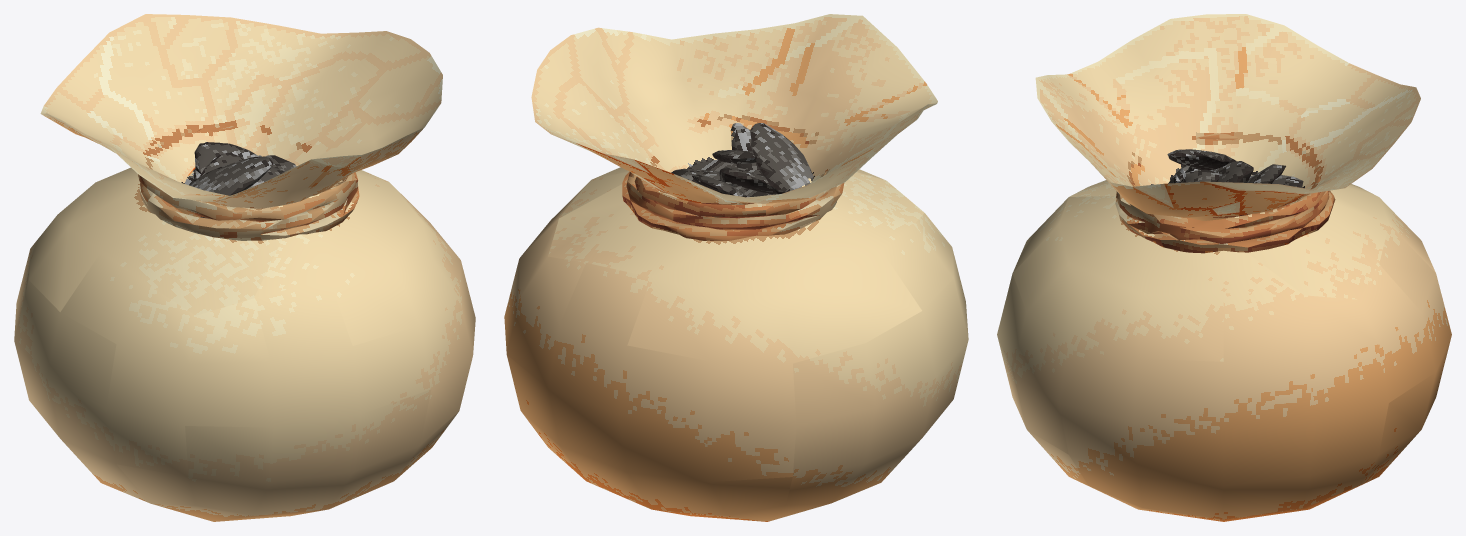
Rendered from seed_bag.glb.
3 views of the same model, side by side, from view 1: azimuth 30°, elevation 25°; view 2: azimuth 150°, elevation 25°; view 3: azimuth 270°, elevation 25° (orthographic). The views are drawn at different scales.
Parts seen in each view (by area): view 1: mesh; view 2: mesh; view 3: mesh.
Part boxes in pixels (x1,y1,x2,y2): mesh: (14, 14, 475, 521); mesh: (504, 14, 968, 521); mesh: (997, 14, 1451, 521).
Bounding box in the file's own units: 0.1511 × 0.15 × 0.1531.
1 material, 1 textured.
